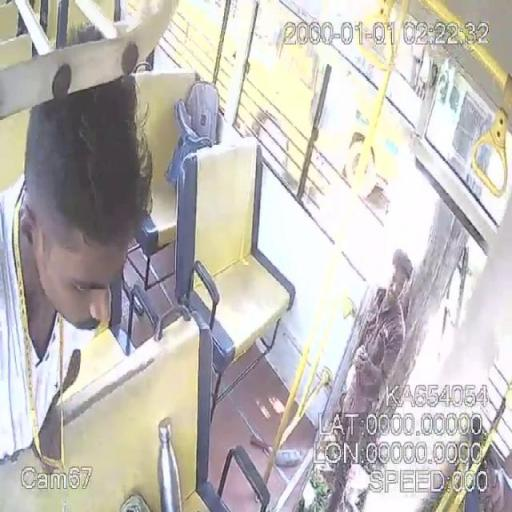persona: (0, 58, 156, 473), (339, 248, 415, 466)
